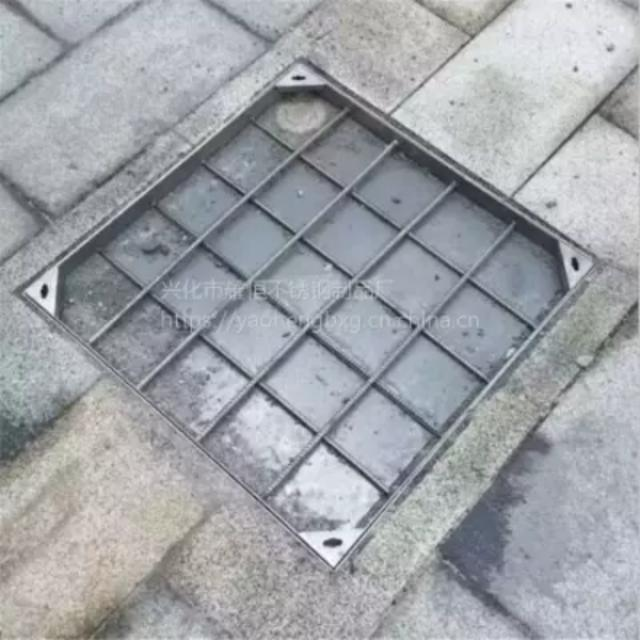manhole: (21, 60, 594, 566)
